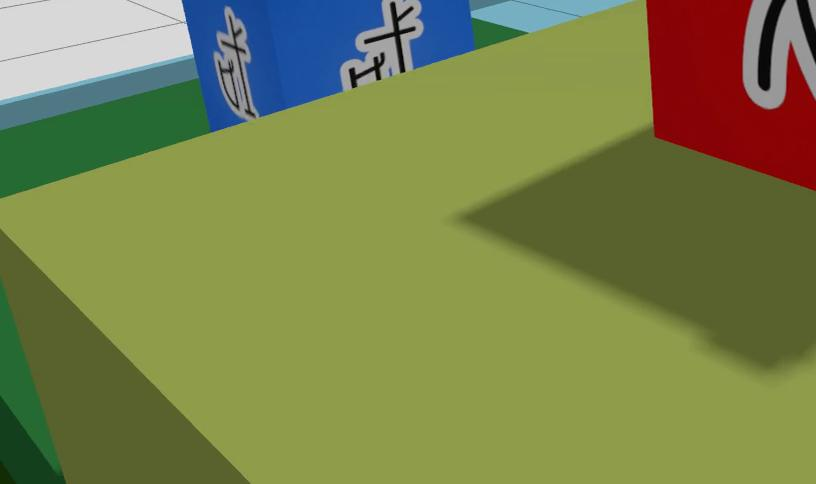KFS_FAKE: (647, 0, 816, 190), (741, 0, 816, 107)
KFS_REAL: (180, 0, 473, 129), (181, 0, 473, 129), (182, 0, 472, 129), (340, 0, 424, 88), (211, 7, 257, 119)
